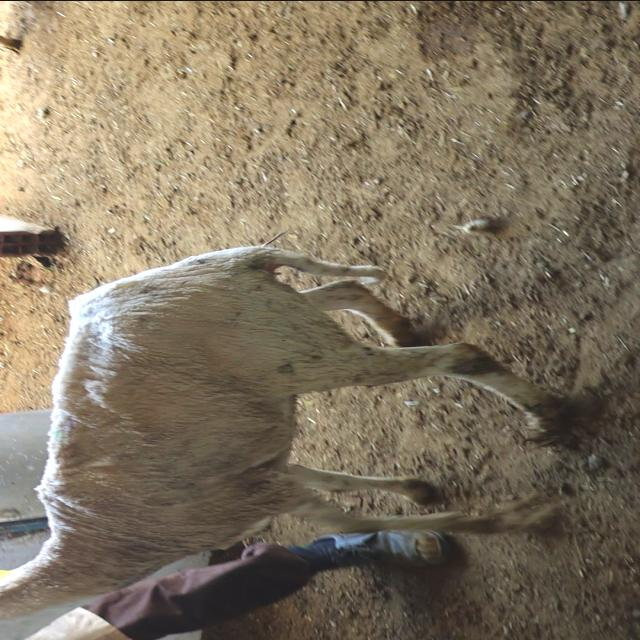Score_1: (0, 245, 564, 618)
